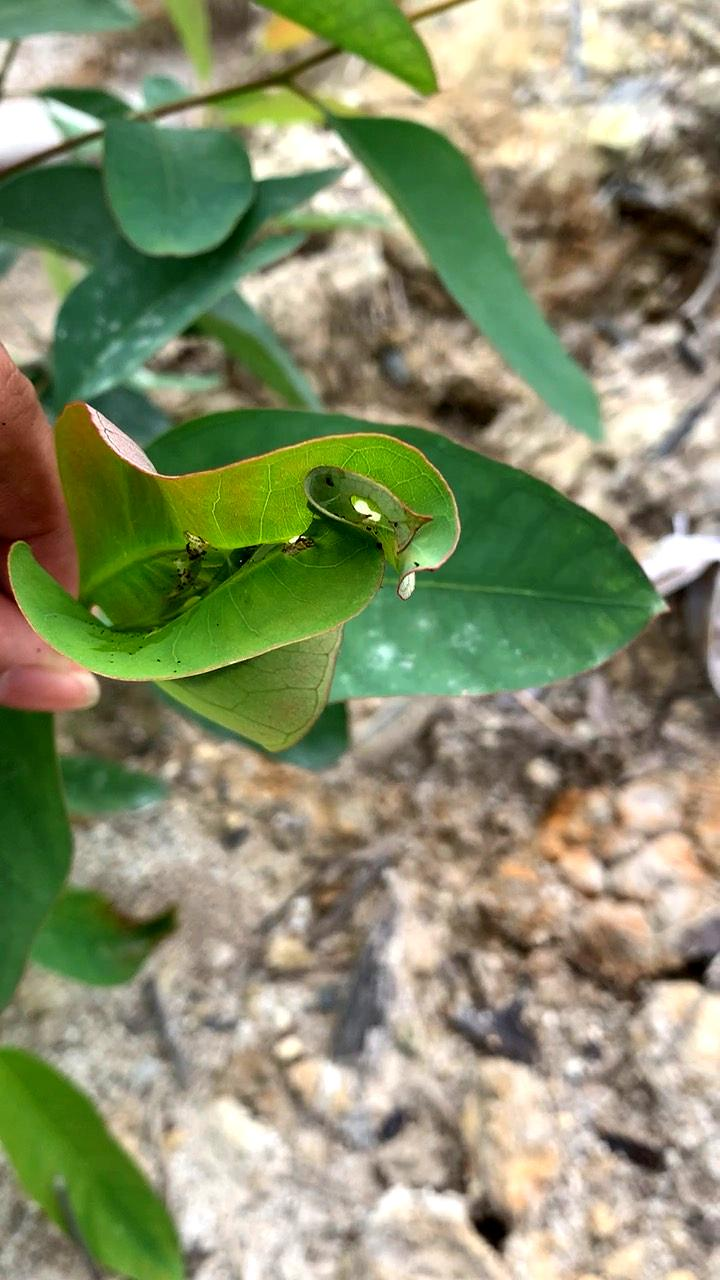Leaf Roller - Leaf: (11, 385, 463, 796)
